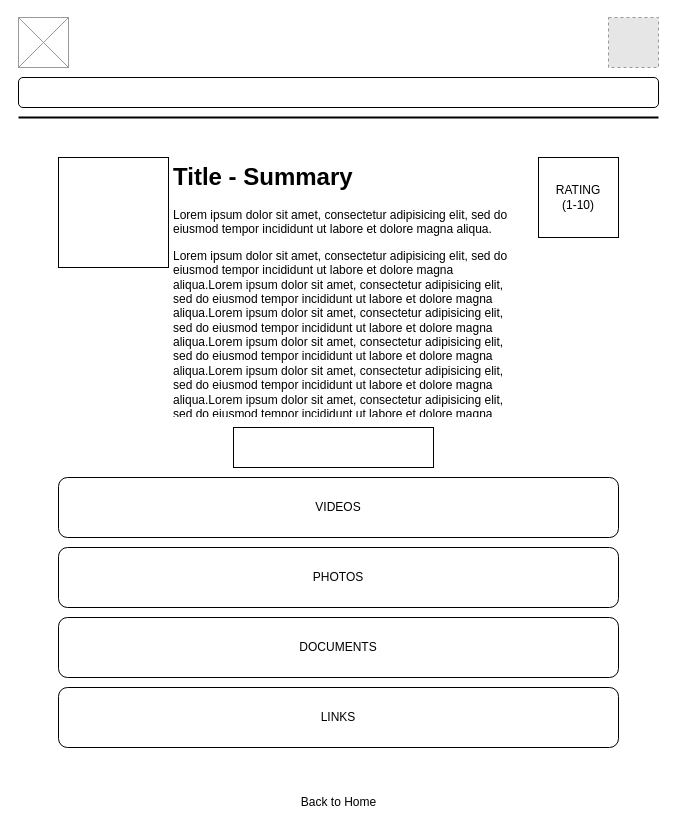
Image size: 677x835. Some labels were removed from this diagram. Grey dashed boxes stand in for pictures. The shapes that lost their labels are listed below. From the top down, each one's centre as x and y in pixels, then its label:
At point 338,92: "SEARCH".
At point 113,212: "IMAGE".
At point 333,447: "RESOURCES".
